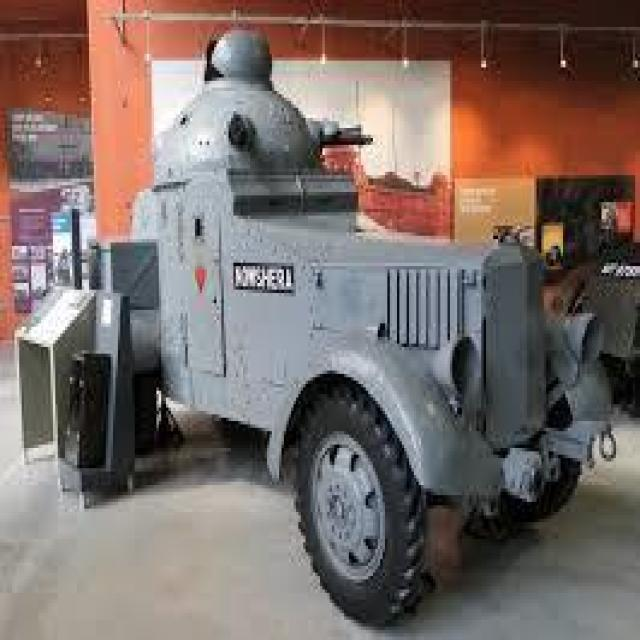MIL_MBT: (32, 54, 564, 603)
